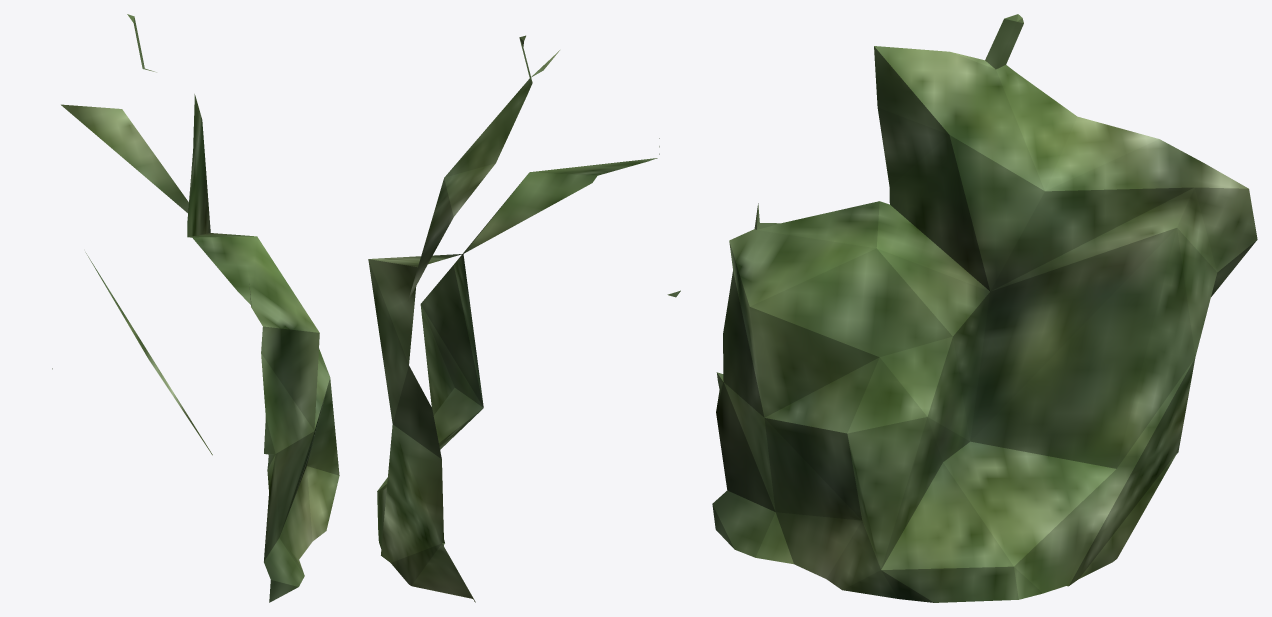
3 renders of one model, left to right at view 1: azimuth 30°, elevation 25°; view 2: azimuth 150°, elevation 25°; view 3: azimuth 270°, elevation 25°, orthographic. The views are drawn at different scales.
Size of the model in its own units: 1.65 by 5.16 by 4.94.
Materials: 1 (1 with a texture image).
